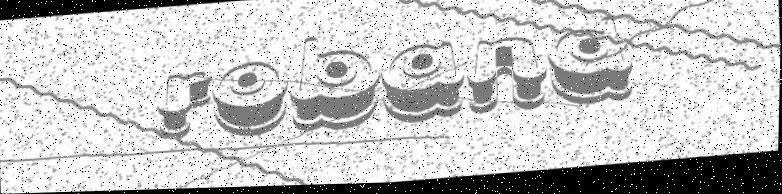a: (381, 44, 466, 126)
b: (288, 34, 382, 133)
d: (545, 19, 634, 111)
n: (465, 38, 549, 118)
o: (211, 62, 291, 139)
r: (155, 73, 214, 142)
